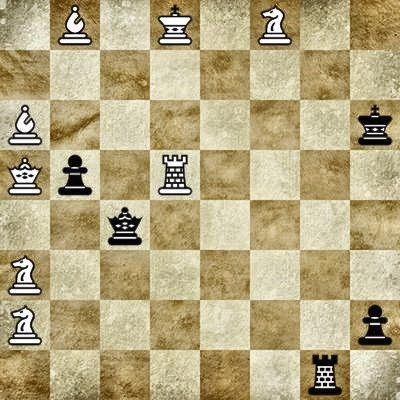black-king: (350, 100, 400, 150)
black-pawn: (50, 150, 100, 200), (350, 300, 400, 350)
black-queen: (100, 200, 150, 250)
black-rook: (300, 350, 350, 400)
white-bishop: (50, 0, 100, 50), (0, 100, 50, 150)
white-king: (150, 0, 200, 50)
white-knight: (250, 0, 300, 50), (0, 250, 50, 300), (0, 300, 50, 350)
white-queen: (0, 150, 50, 200)
white-rook: (150, 150, 200, 200)
